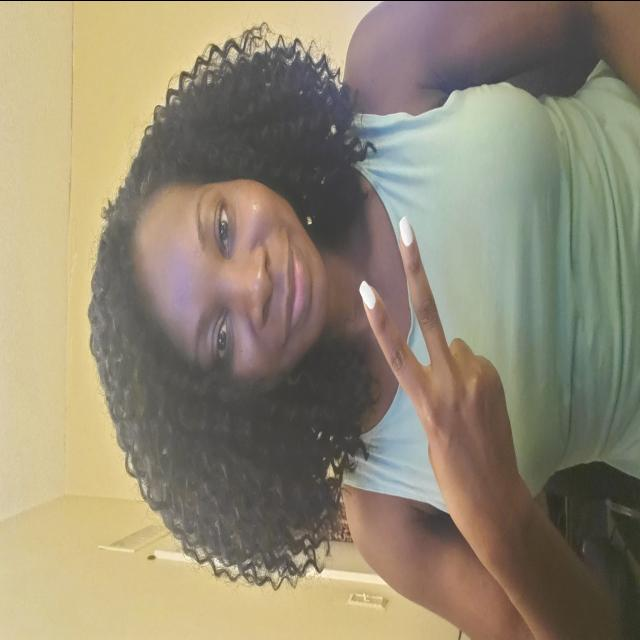Scissors: (356, 212, 511, 540)
